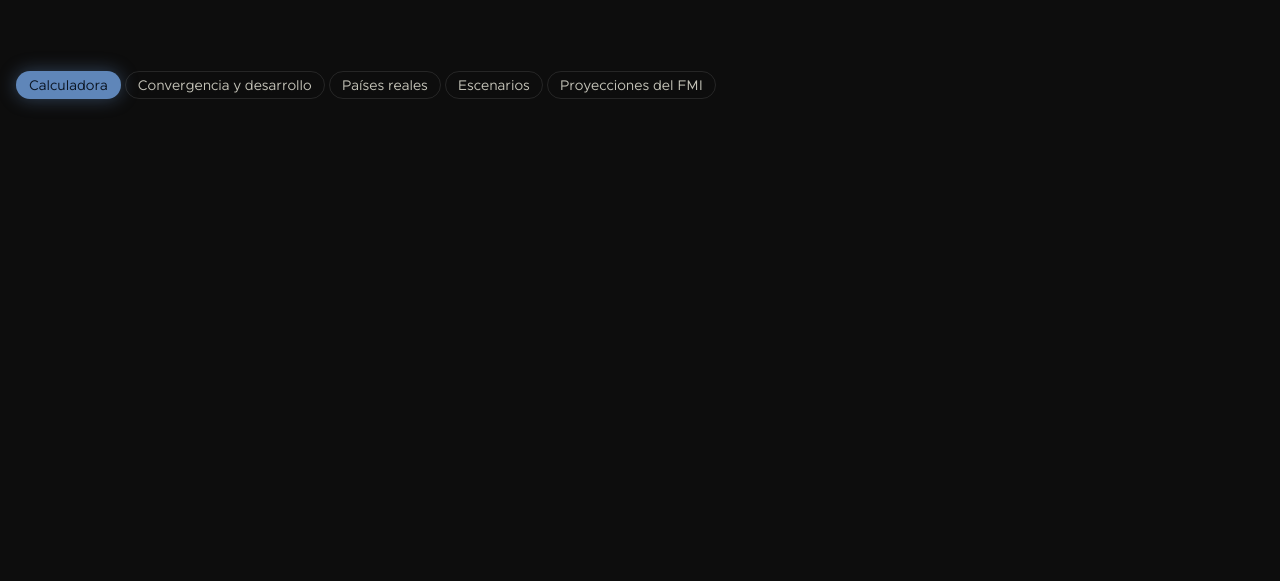
the tabs of the slide › opens on the calculator and has a second tab with the real countries
The image size is (1280, 581).
Check: the element named "¿Cuánto hay que crecer por año para duplicar el PBI? La regla del 70" is shown, box 16,71 -> 716,99
Click the tab "Países reales": coordinates (385, 85) 329,71 -> 441,99
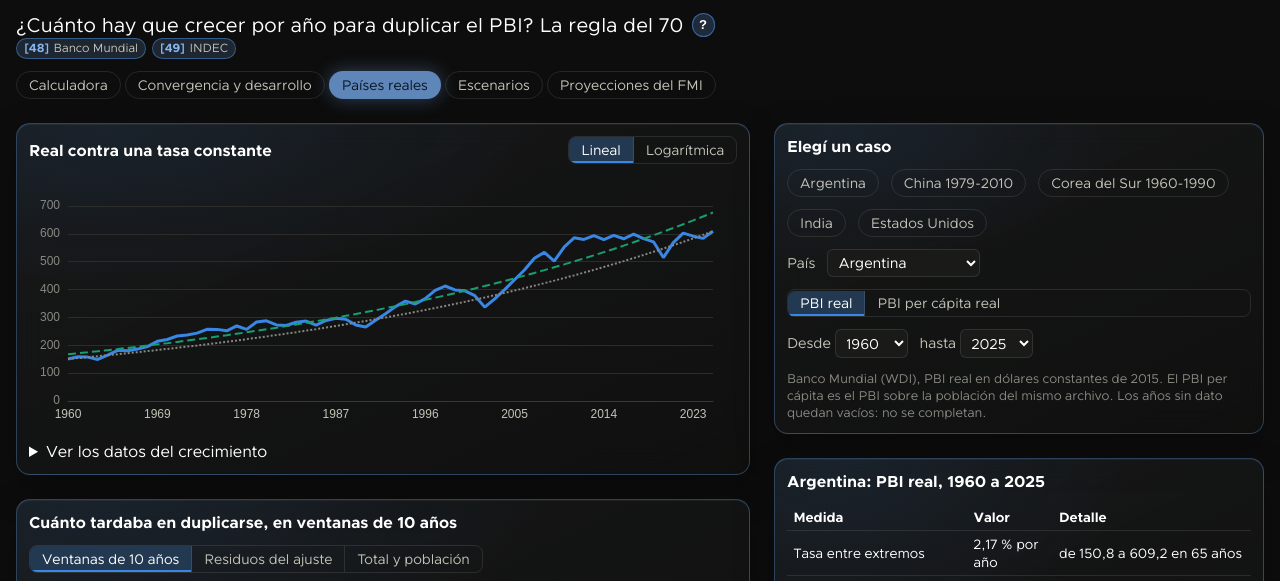
Check: the dropdown labelled "País" is shown, box 828,249 -> 980,278
